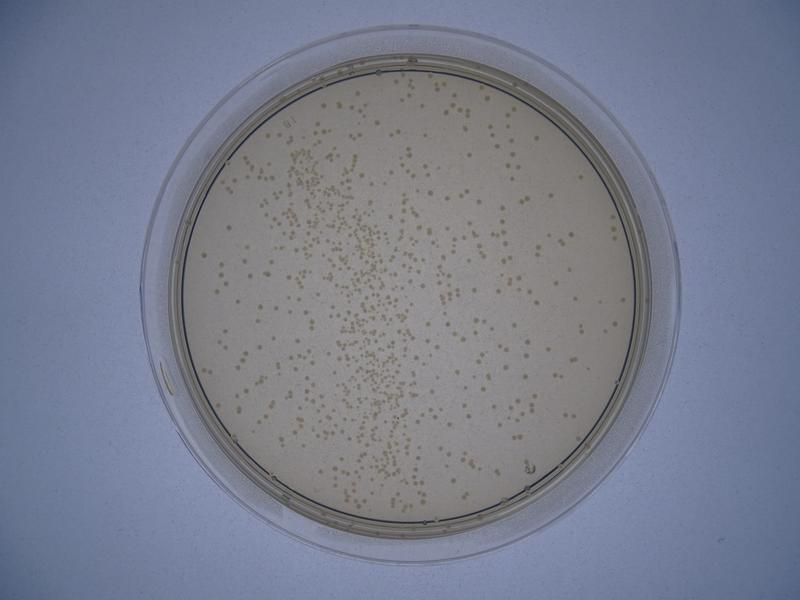colony: (198, 250, 209, 261), (419, 129, 430, 140), (509, 318, 519, 329), (372, 117, 382, 128), (441, 193, 451, 203), (575, 171, 584, 182), (240, 242, 251, 250), (269, 333, 278, 342), (464, 150, 474, 158), (256, 303, 264, 312), (225, 222, 232, 232), (553, 279, 560, 289), (544, 345, 552, 352), (427, 388, 435, 395), (453, 366, 459, 375)
